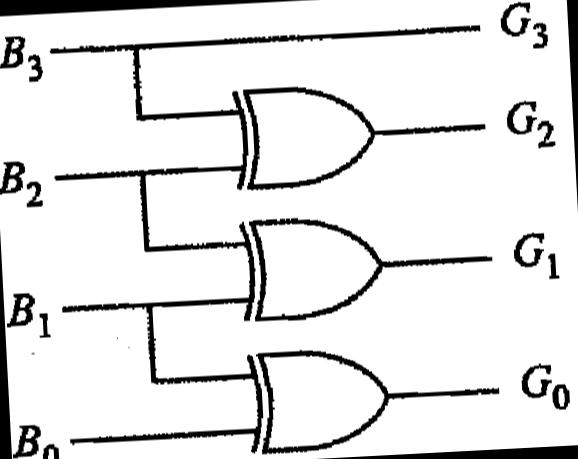xor: (226, 205, 399, 330), (235, 337, 406, 459), (220, 75, 388, 196)
